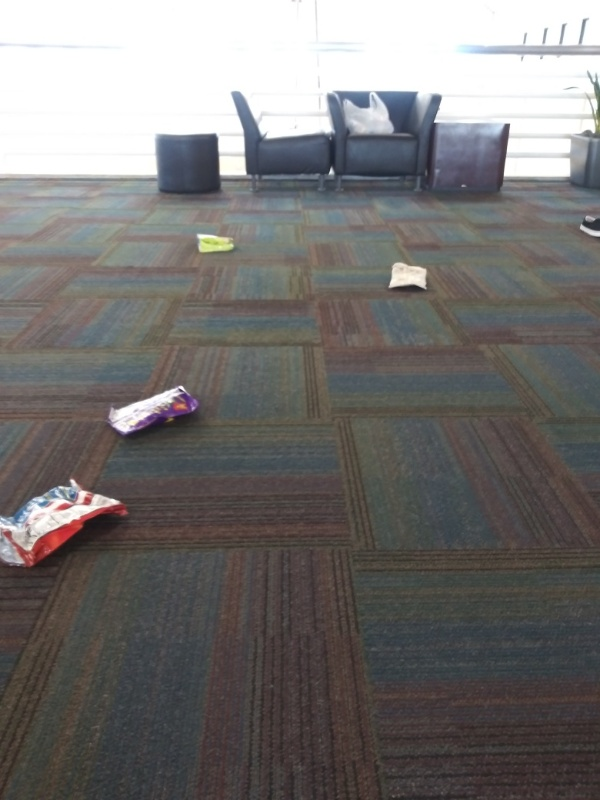bag: (1, 473, 143, 578), (102, 382, 205, 441), (384, 257, 434, 297), (192, 227, 243, 256)
